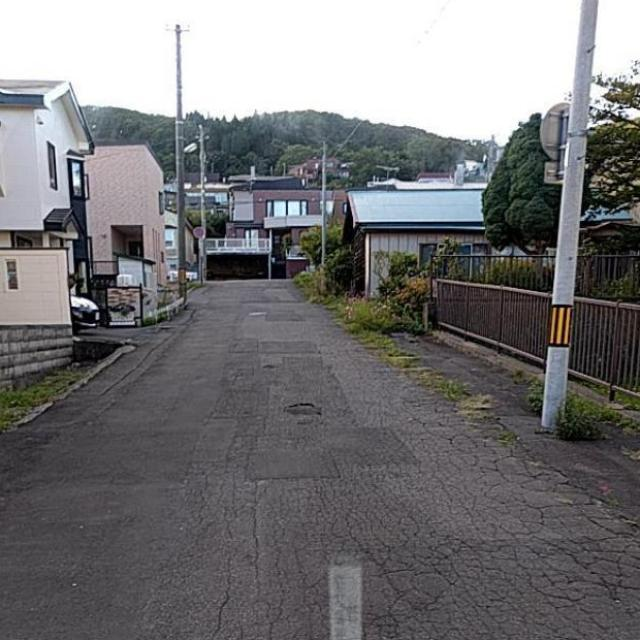Retak Buaya: (249, 426, 640, 640)
